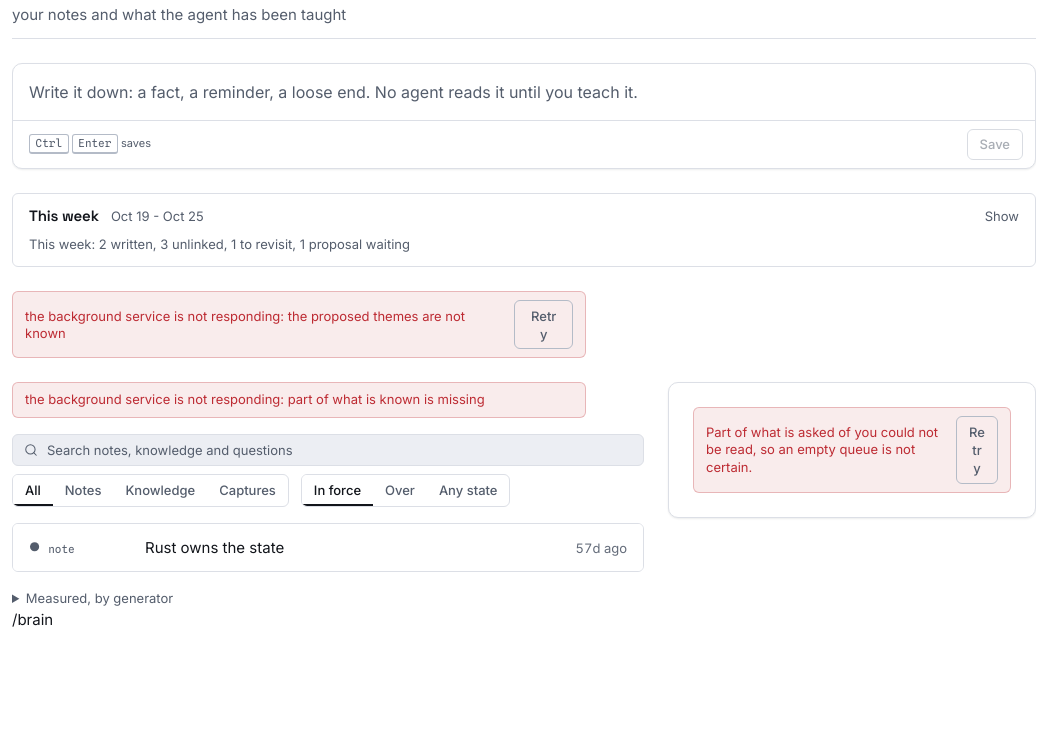
Brain › shows the weekly review summary between the capture box and the list, and a row opens its note
The image size is (1048, 733).
Check: the text "This week: 2 written, 3 unlinked, 1 to revisit, 1 proposal waiting" is shown, box x1=29 y1=236 x2=410 y2=252
Click the button "Show": (1002, 216) x1=985 y1=206 x2=1019 y2=226
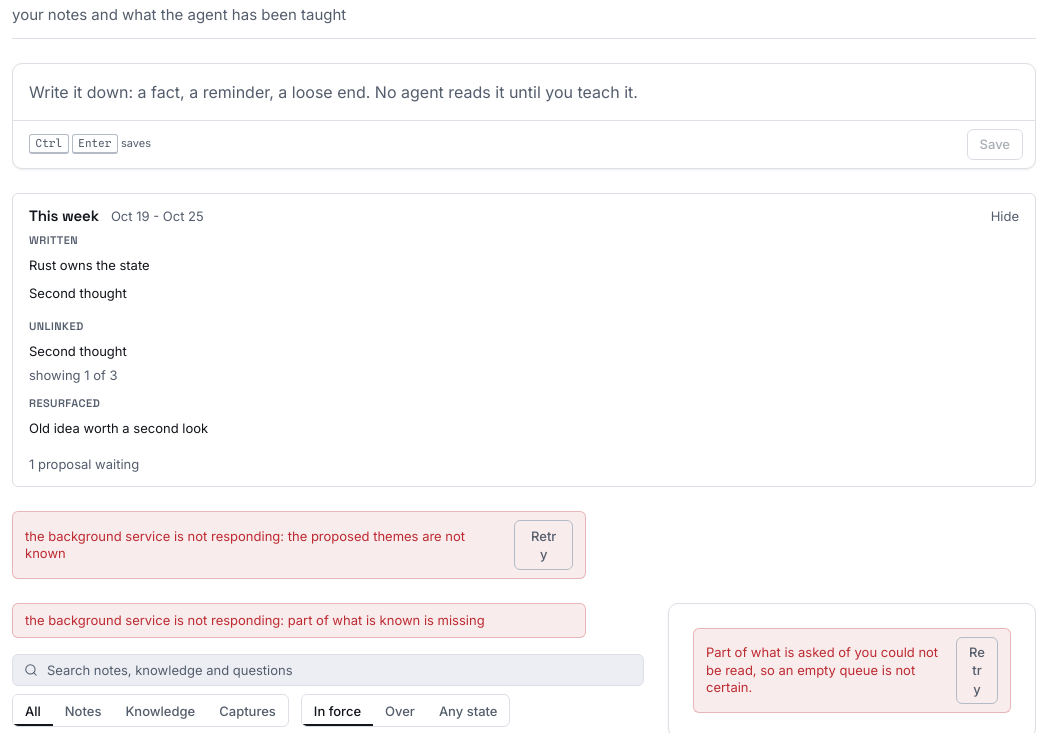
Check: the text "showing 1 of 3" is shown, box x1=29 y1=367 x2=118 y2=383
Click the button "Old idea worth a second look": (119, 428) x1=29 y1=414 x2=1019 y2=442
(page scrolled)
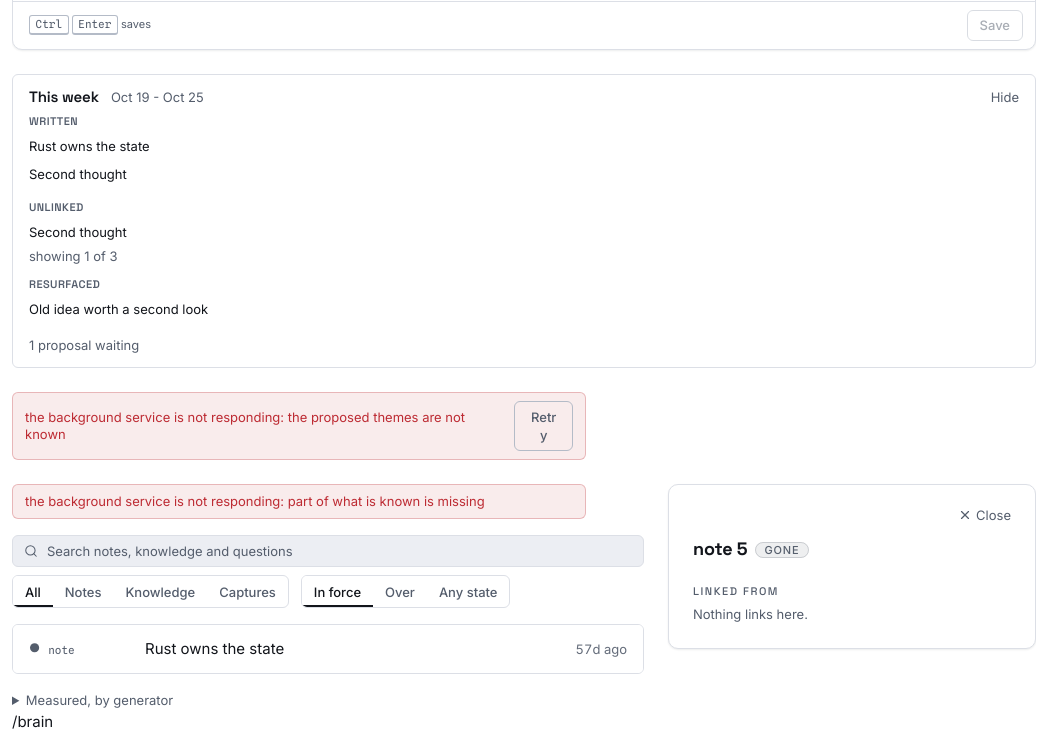
Check: the element named "Selected" is shown, box x1=668 y1=484 x2=1036 y2=649
